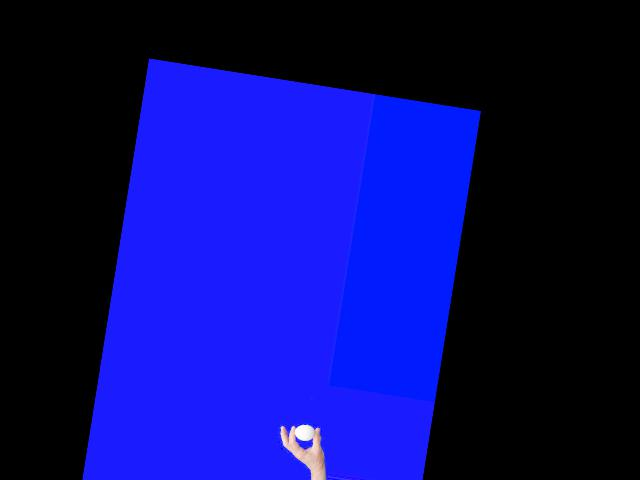egg: (293, 422, 316, 442)
